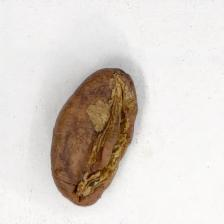NG: (65, 75, 135, 201)
